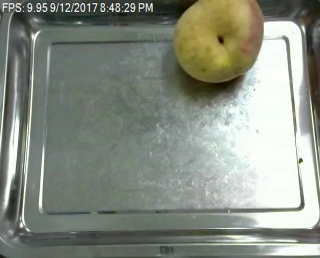Peach: (173, 1, 263, 83)
